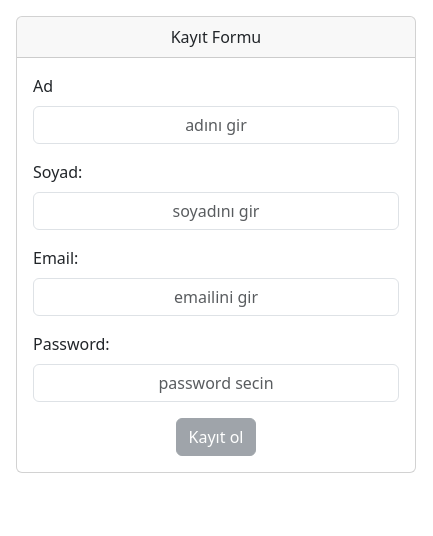
Test: register sayfasi › error messages › password input throws error for 1234
Step 1. Type "1234" into the password field with test id "password-input" → {"x": 216, "y": 383}, box 33,364 -> 399,402
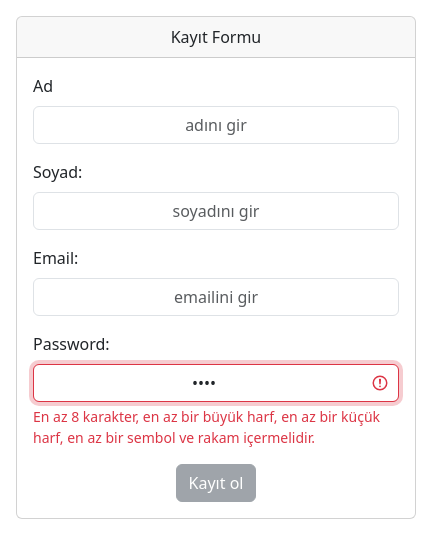
Result: the text "En az 8 karakter, en az bir büyük harf, en az bir küçük harf, en az bir sembol ve rakam içermelidir." is shown at 33,407 -> 380,447
